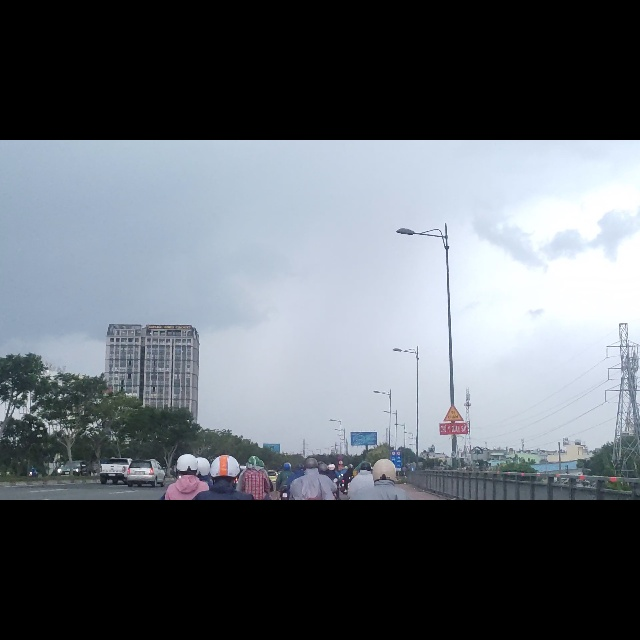bien_nguy_hiem: (443, 468, 464, 502)
